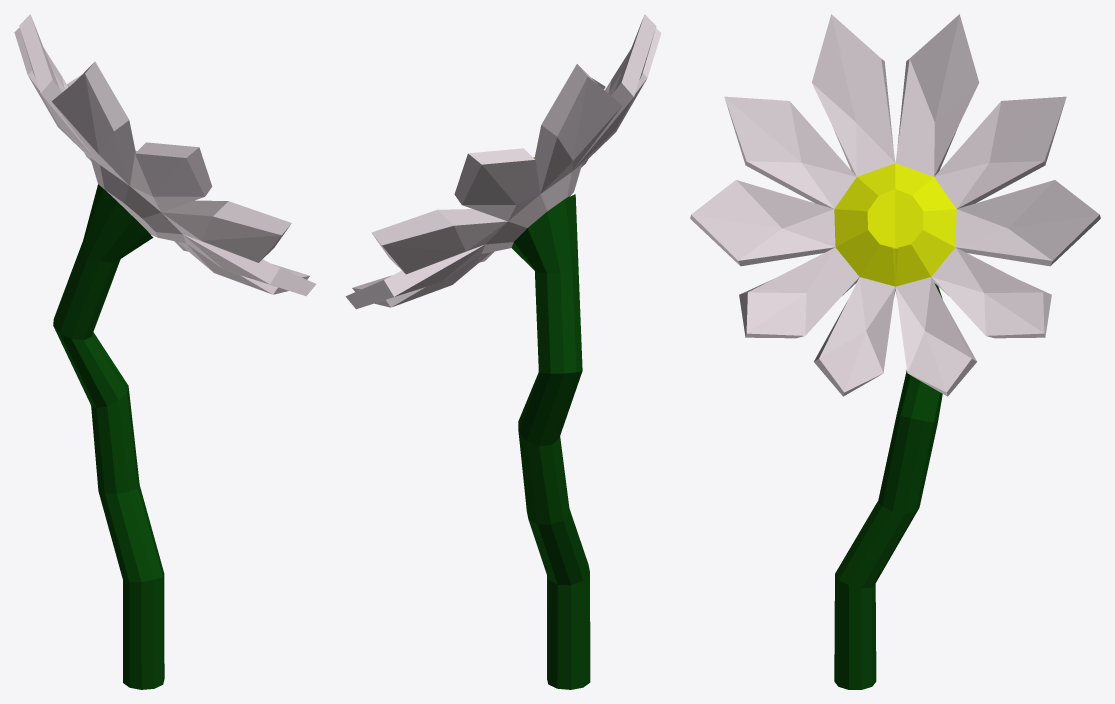
Rendered from RoughFlower.fbx.
The picture shows the model from 3 angles, left to right: view 1: azimuth 30°, elevation 25°; view 2: azimuth 150°, elevation 25°; view 3: azimuth 270°, elevation 25°; orthographic projection. The views are drawn at different scales.
Visible parts, largest first — view 1: Cylinder.001, Cylinder; view 2: Cylinder.001, Cylinder; view 3: Cylinder.001, Cylinder.
Boxes of the visible parts, x1,y1,x2,y2 form: Cylinder.001: (14,14,316,296); Cylinder: (53,184,164,689); Cylinder.001: (345,14,661,309); Cylinder: (511,194,590,689); Cylinder.001: (690,14,1100,396); Cylinder: (834,283,942,689).
Bounding box in the file's own units: 1299 × 3350 × 1955.
